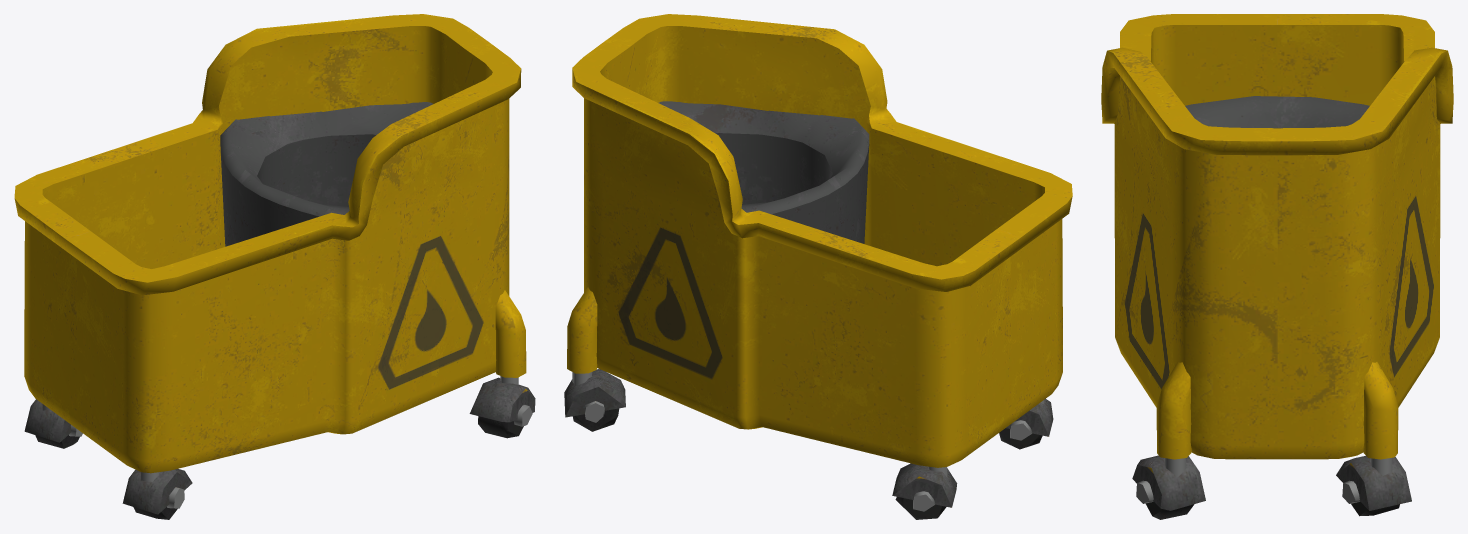
The model's file is SM_Mop_Bucket.glb.
3 views of the same model, side by side, from view 1: azimuth 30°, elevation 25°; view 2: azimuth 150°, elevation 25°; view 3: azimuth 270°, elevation 25° (orthographic). The views are drawn at different scales.
Parts seen in each view (by area): view 1: SM_Mop_Bucket; view 2: SM_Mop_Bucket; view 3: SM_Mop_Bucket.
Part boxes in pixels (x1,y1,x2,y2): SM_Mop_Bucket: [14, 14, 535, 519]; SM_Mop_Bucket: [564, 14, 1072, 519]; SM_Mop_Bucket: [1101, 14, 1453, 519].
Bounding box in the file's own units: 0.7028 × 0.5509 × 0.4501.
1 material, 1 textured.
